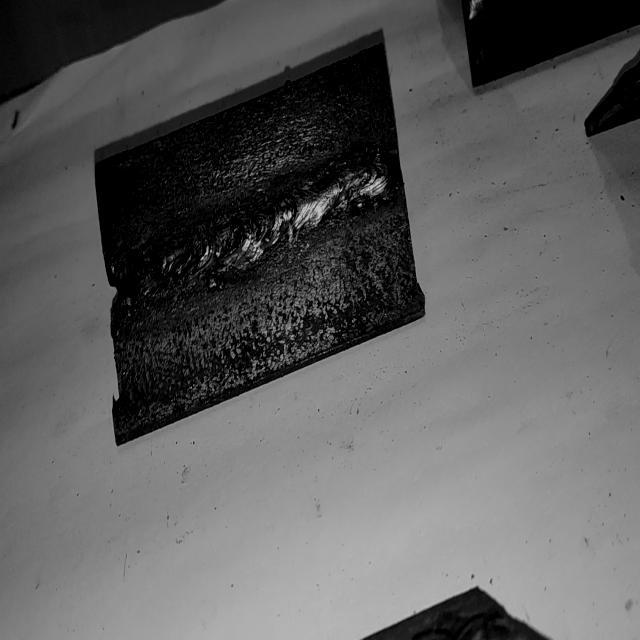Defect: (106, 202, 277, 302)
Welding Line: (118, 151, 400, 313)
Workpiece: (92, 23, 428, 450)
